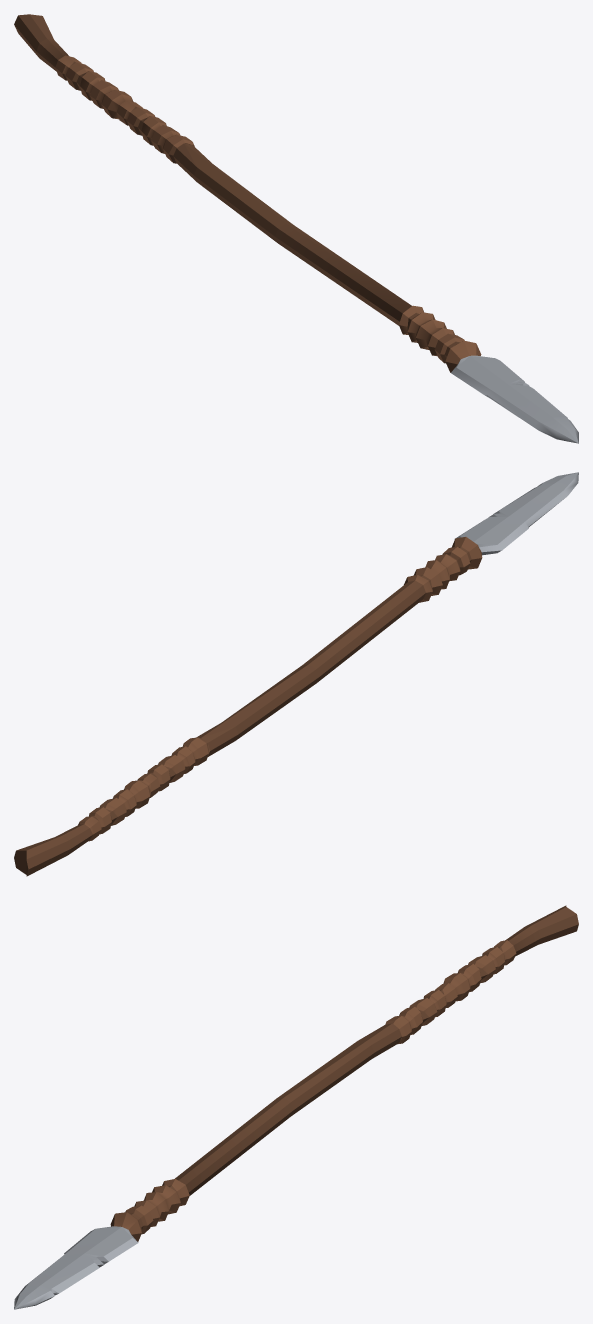
The model's file is spear.glb.
3 renders of one model, top to bottom at view 1: azimuth 30°, elevation 25°; view 2: azimuth 150°, elevation 25°; view 3: azimuth 330°, elevation 25°, orthographic. The views are drawn at different scales.
Visible parts, largest first — view 1: Spear_Cylinder.031; view 2: Spear_Cylinder.031; view 3: Spear_Cylinder.031.
Part boxes in pixels (x1,y1,x2,y2): Spear_Cylinder.031: [14, 14, 578, 443]; Spear_Cylinder.031: [14, 472, 578, 876]; Spear_Cylinder.031: [14, 905, 578, 1309].
Size of the model in its own units: 0.109 by 0.0669 by 2.
